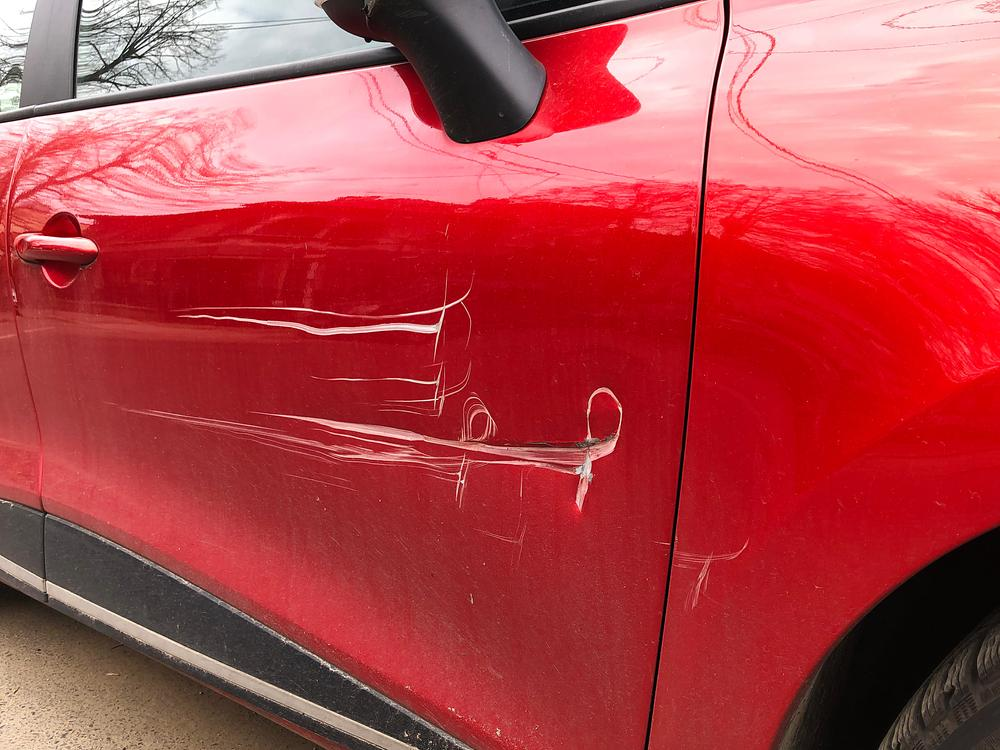scratch: (106, 283, 633, 538), (677, 535, 756, 614)
